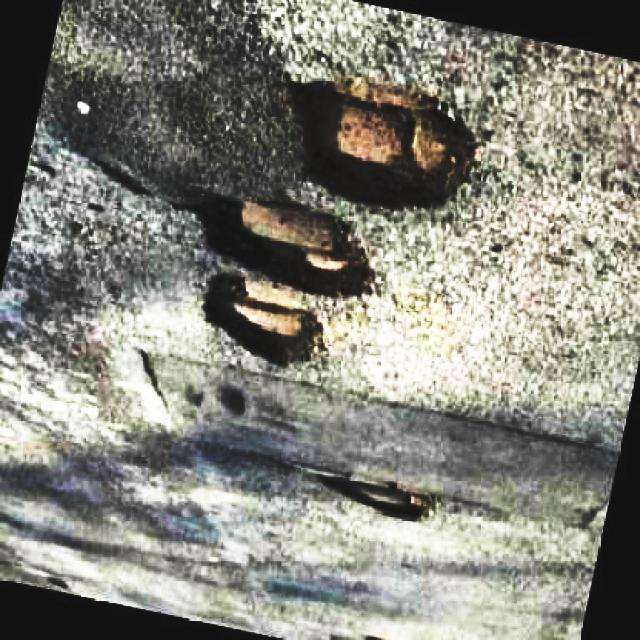pothole: (289, 62, 474, 209), (192, 186, 371, 300), (205, 272, 326, 370), (320, 466, 437, 519)
